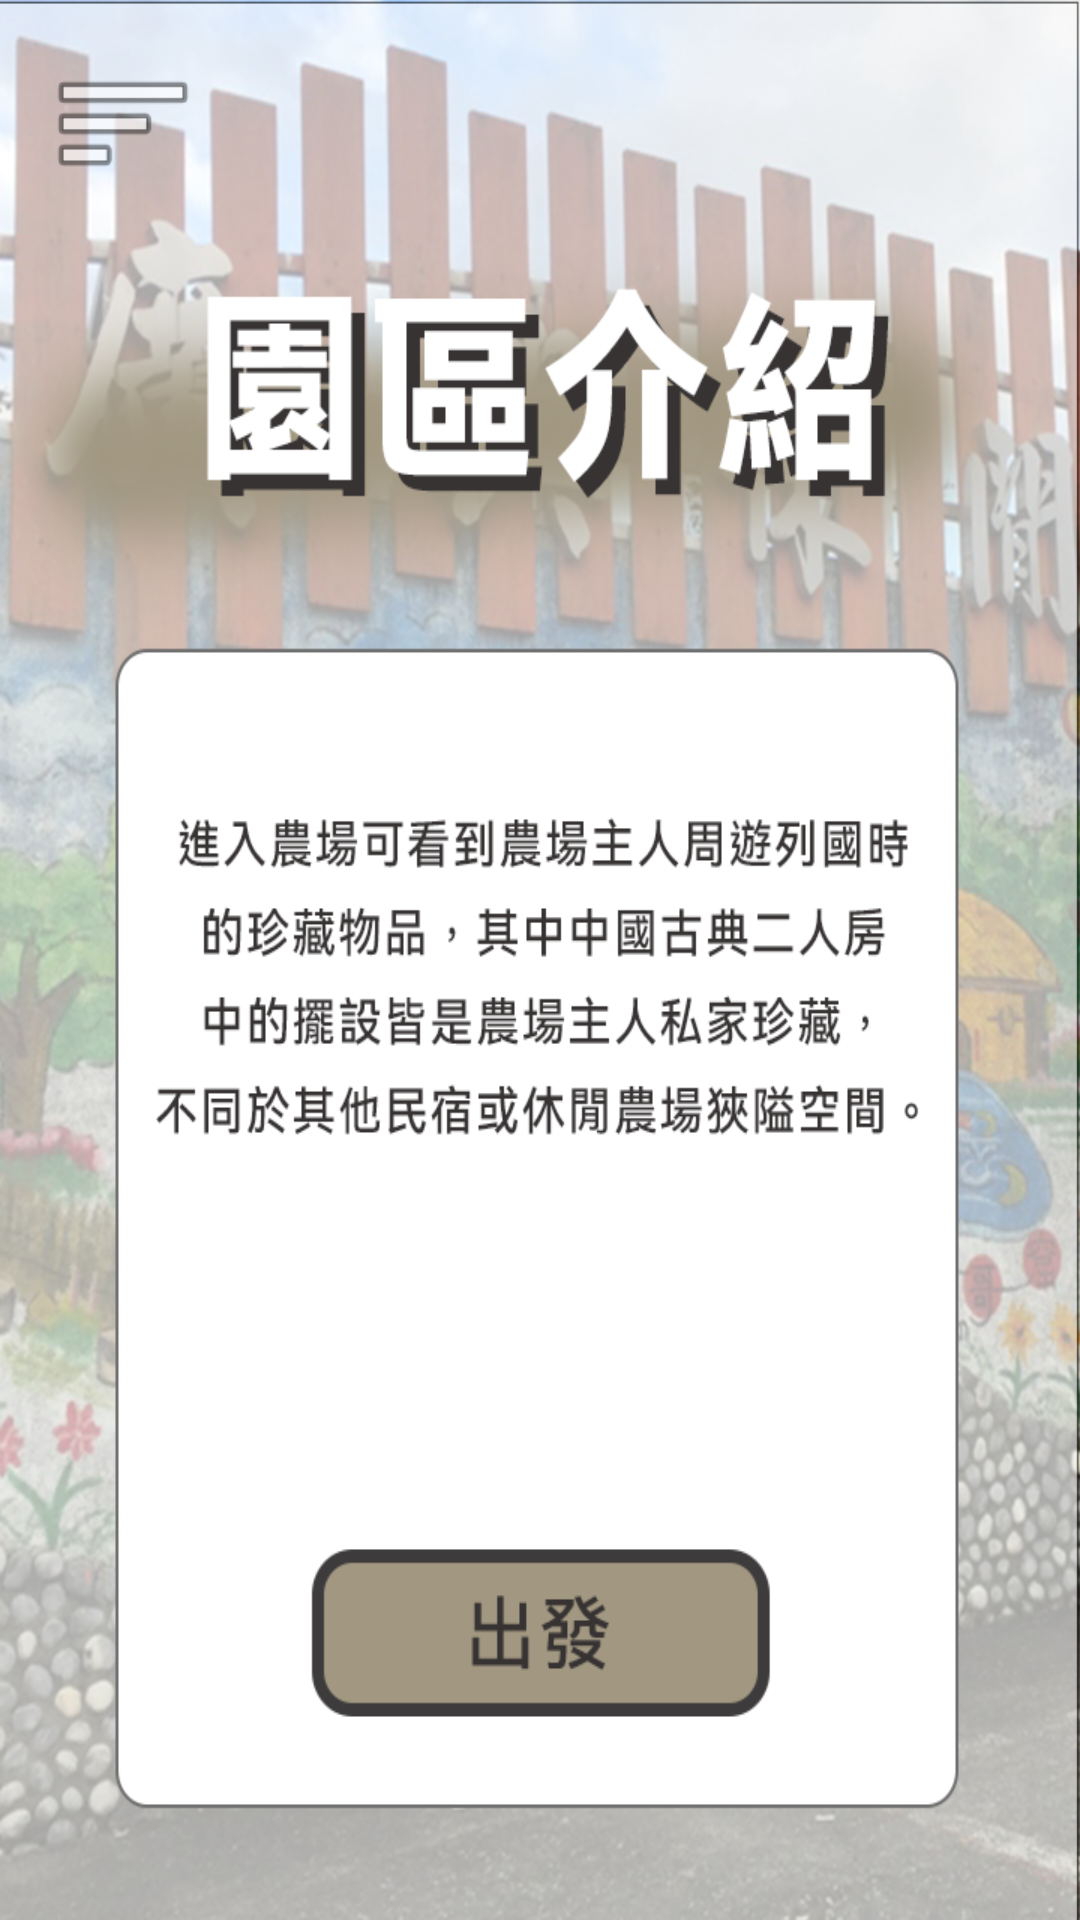

Where to tap for icons on this 1080px×1920px app screen, as [x,y]:
sort by size: [123,123]
